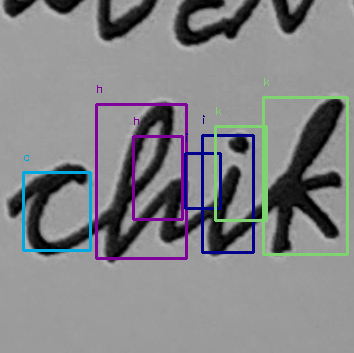c: (19, 159, 93, 260)
h: (97, 96, 193, 267)
i: (200, 128, 256, 258)
k: (263, 95, 348, 256)
